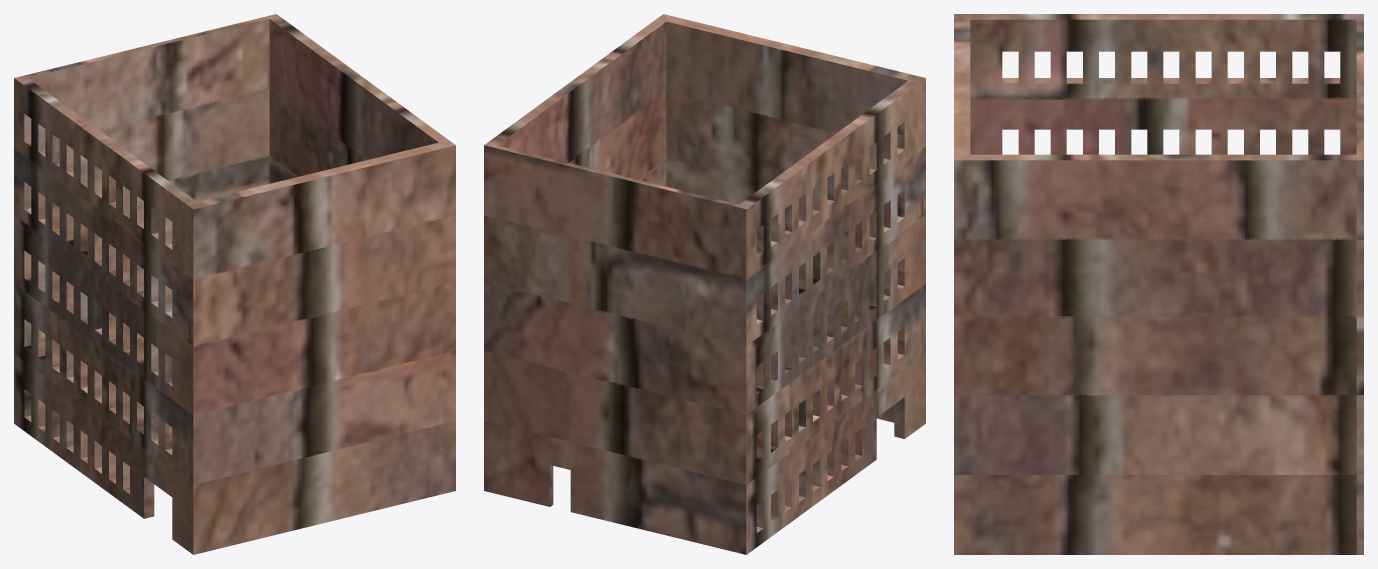
File: building.fbx
The picture shows the model from 3 angles, left to right: view 1: azimuth 30°, elevation 25°; view 2: azimuth 150°, elevation 25°; view 3: azimuth 270°, elevation 25°; orthographic projection. The views are drawn at different scales.
Visible parts, largest first — view 1: pCube9; view 2: pCube9; view 3: pCube9.
Boxes of the visible parts, x1,y1,x2,y2 form: pCube9: [14, 14, 455, 554]; pCube9: [484, 14, 925, 554]; pCube9: [954, 14, 1363, 554].
Size of the model in its own units: 47.33 by 59.56 by 56.04.
